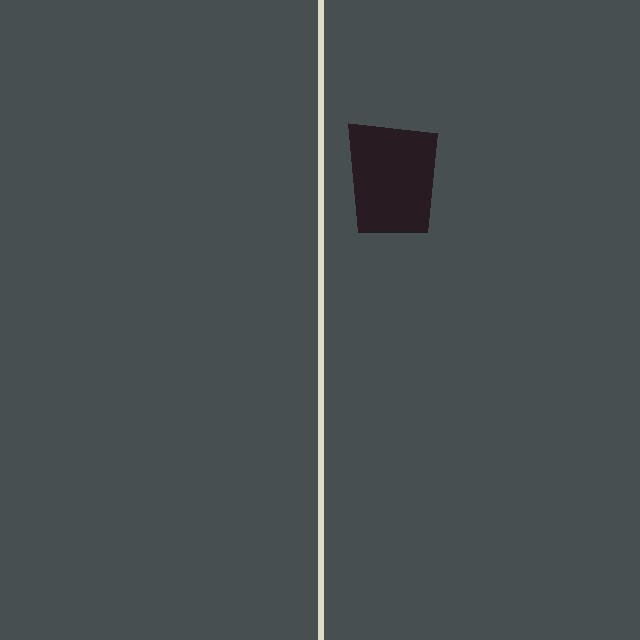damaged_surface: (348, 123, 437, 232)
